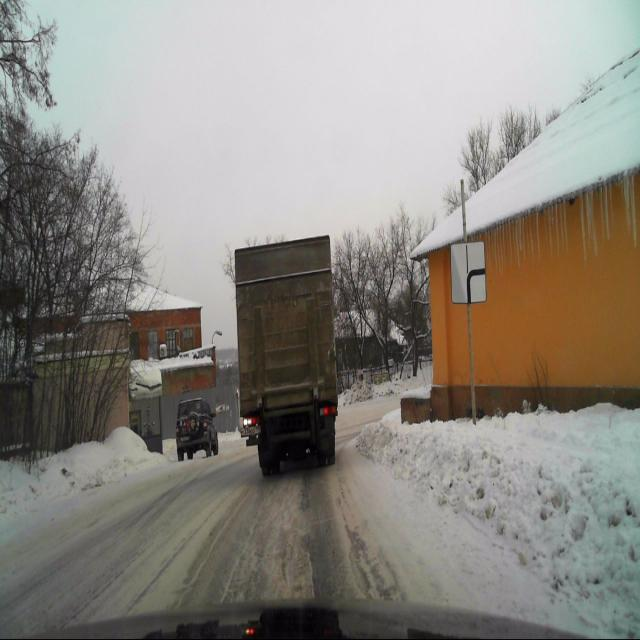road sign: (450, 243, 486, 304)
